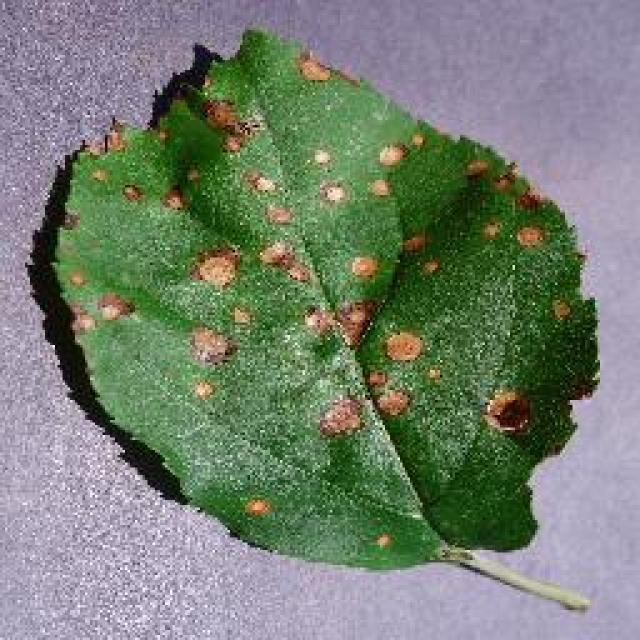apple healthy: (25, 25, 603, 597)
